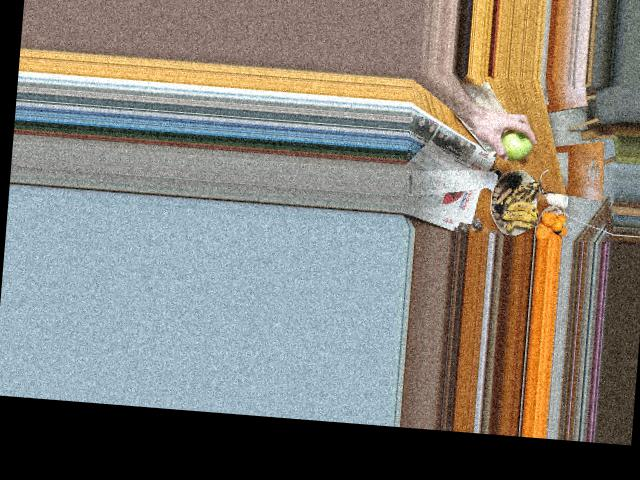apple: (492, 124, 534, 160)
